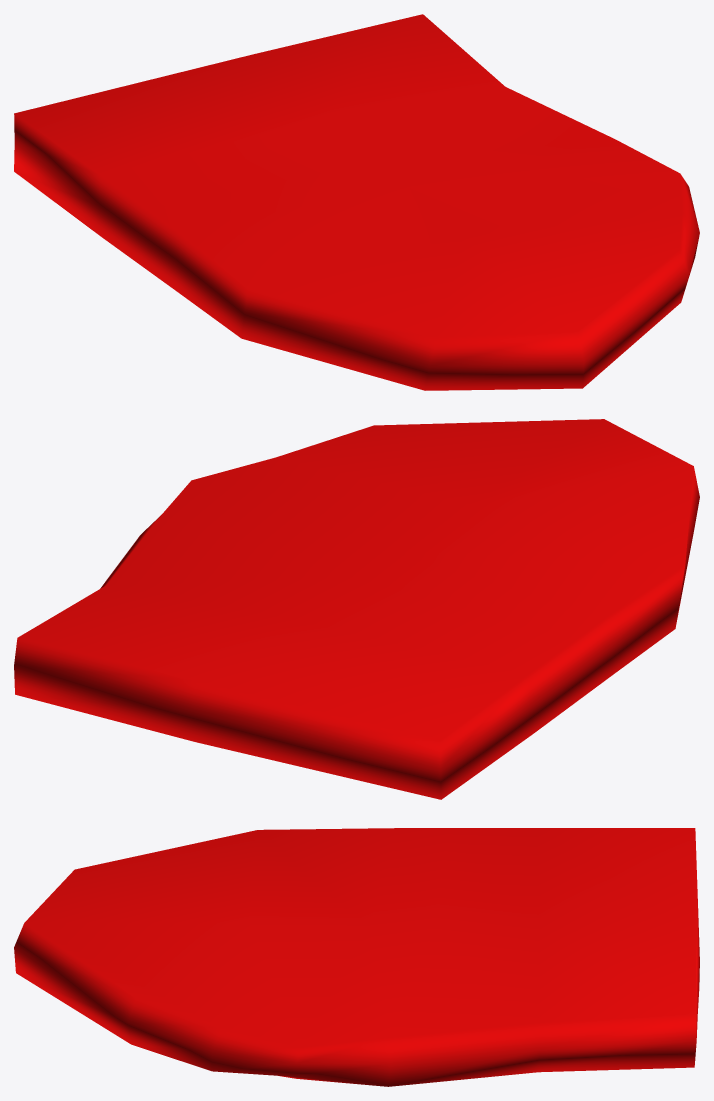
File: Concrete_Block_01.fbx
3 views of the same model, one above another, from view 1: azimuth 30°, elevation 25°; view 2: azimuth 150°, elevation 25°; view 3: azimuth 270°, elevation 25° (orthographic). The views are drawn at different scales.
Parts seen in each view (by area): view 1: Concrete_Block_01; view 2: Concrete_Block_01; view 3: Concrete_Block_01.
Boxes of the visible parts, x1=… form: Concrete_Block_01: x1=14, y1=14, x2=699, y2=390; Concrete_Block_01: x1=14, y1=419, x2=699, y2=799; Concrete_Block_01: x1=14, y1=828, x2=699, y2=1086.
Bounding box in the file's own units: 174 × 22.11 × 241.
